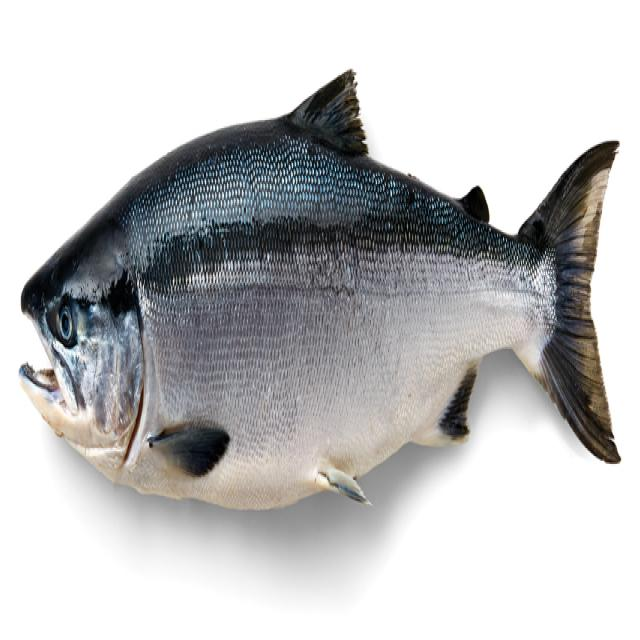salmon: (18, 58, 626, 532)
